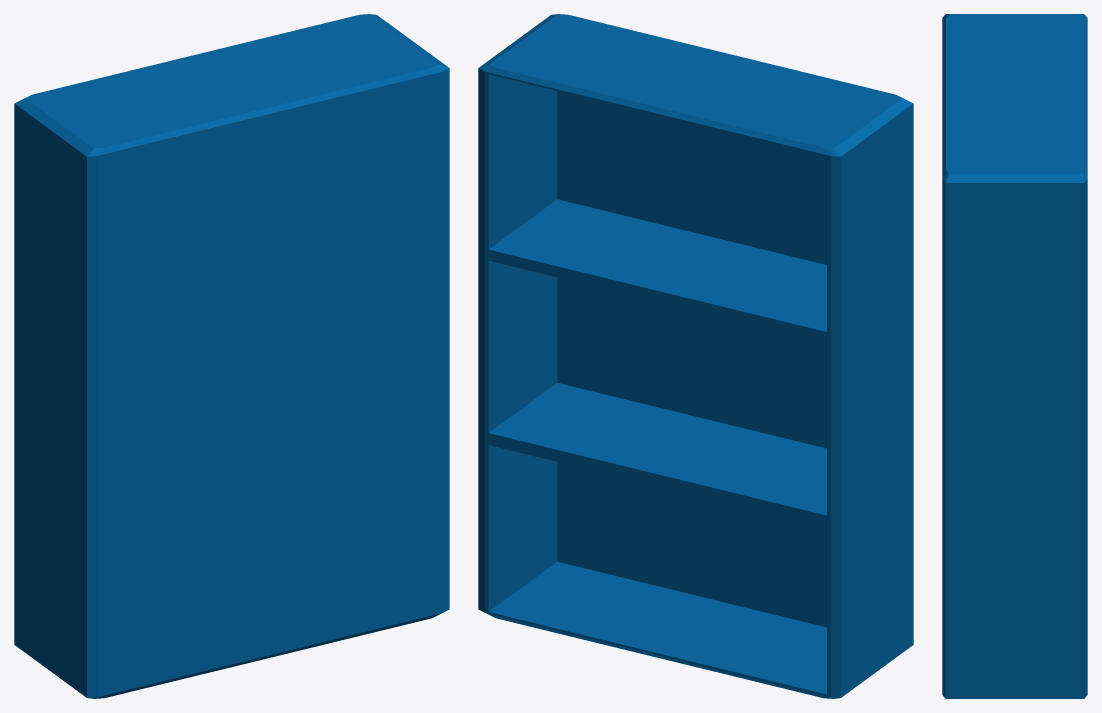
Rendered from Container_Cabinet_1.fbx.
3 renders of one model, left to right at view 1: azimuth 30°, elevation 25°; view 2: azimuth 150°, elevation 25°; view 3: azimuth 270°, elevation 25°, orthographic. The views are drawn at different scales.
Parts seen in each view (by area): view 1: pasted__pCube84; view 2: pasted__pCube84; view 3: pasted__pCube84.
Boxes of the visible parts, left/top/right/bottom form: pasted__pCube84: left=14, top=14, right=449, bottom=698; pasted__pCube84: left=478, top=14, right=913, bottom=698; pasted__pCube84: left=942, top=14, right=1087, bottom=698.
Bounding box in the file's own units: 0.8252 × 1.2 × 0.3008.
